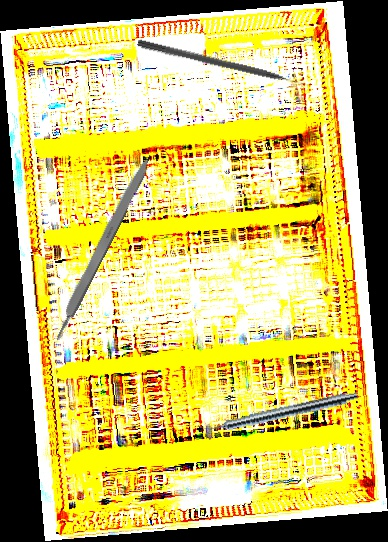Handpiece: (197, 386, 359, 439)
Pusher: (136, 38, 312, 92)
Scalpel Handle: (48, 151, 155, 343)
